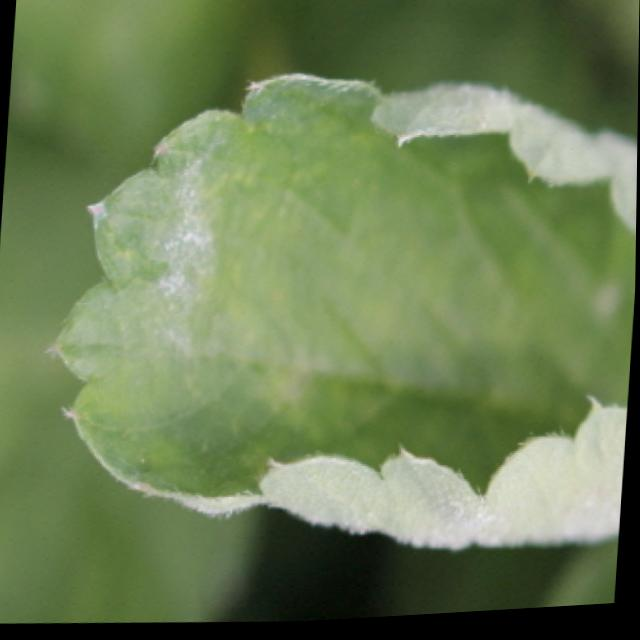Powdery Mildew Leaf: (49, 75, 638, 558)
